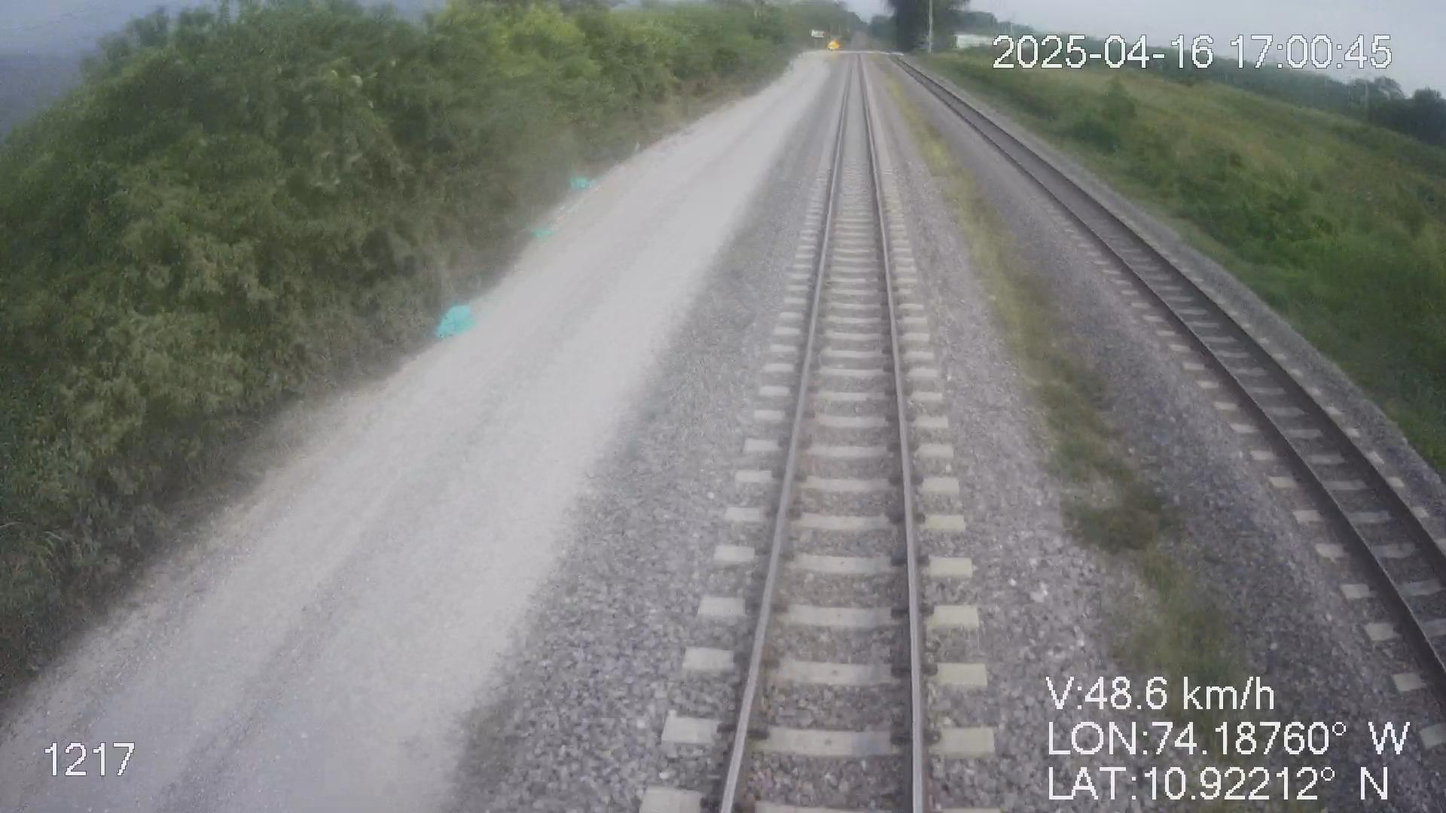Pasto: (0, 0, 812, 703), (926, 35, 1445, 477)
